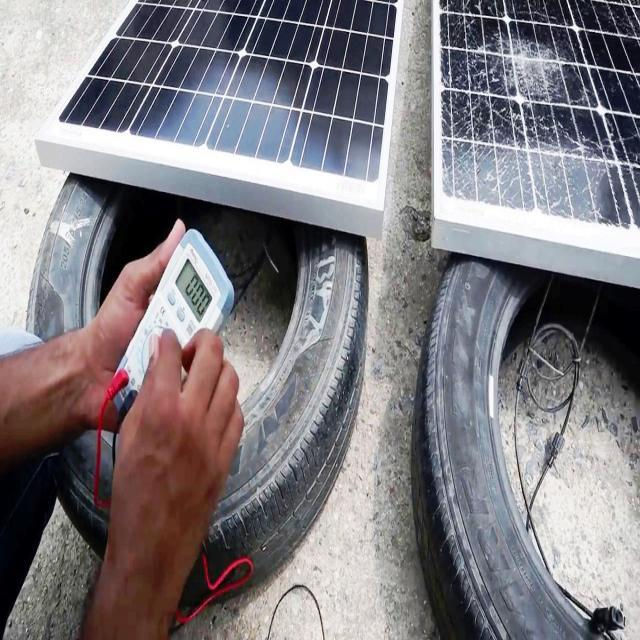faulty: (434, 2, 640, 251)
no faulty: (58, 0, 398, 192)
